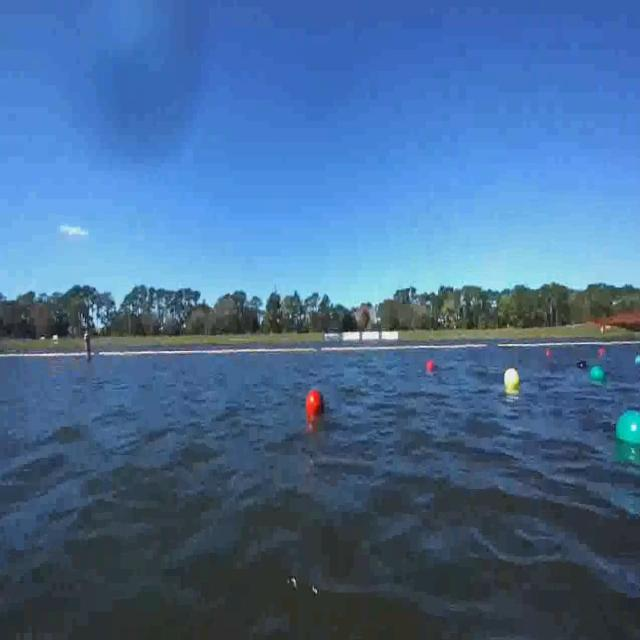black-buoy: (576, 359, 587, 369)
green-buoy: (615, 411, 640, 446), (587, 366, 603, 384), (634, 354, 640, 365)
red-buoy: (305, 393, 323, 418), (426, 359, 435, 373)
yellow-buoy: (504, 369, 520, 390)
